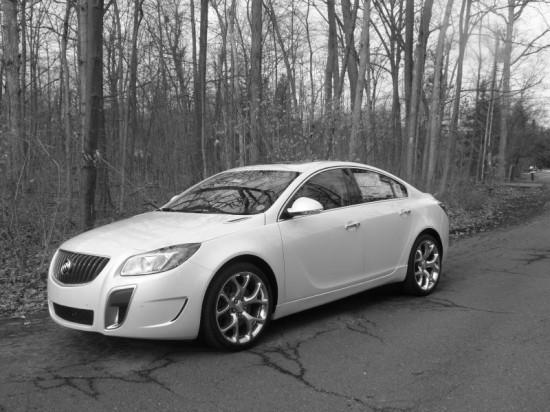car: (46, 160, 454, 356)
